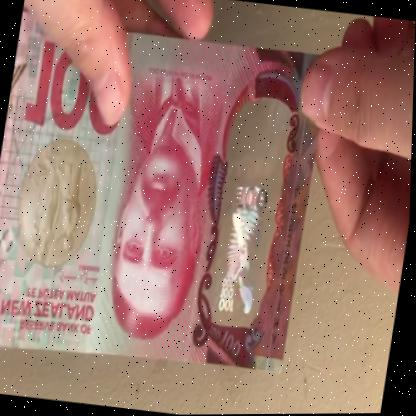100F: (212, 115, 284, 326)
